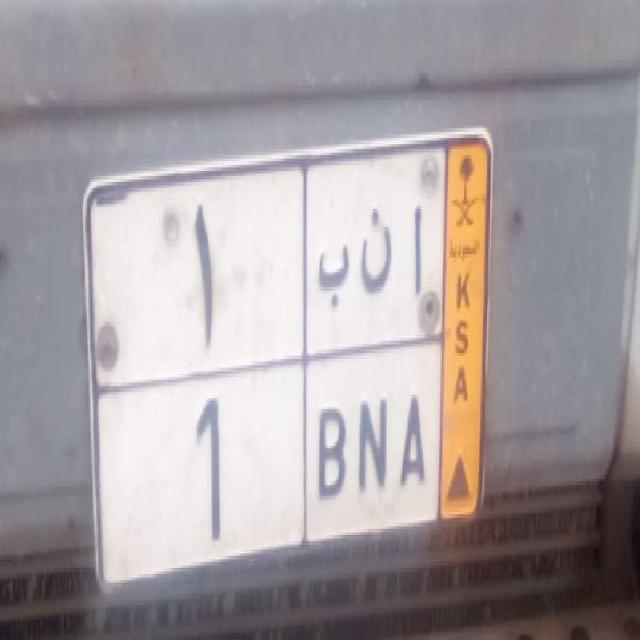license_plate: (95, 362, 439, 558)
